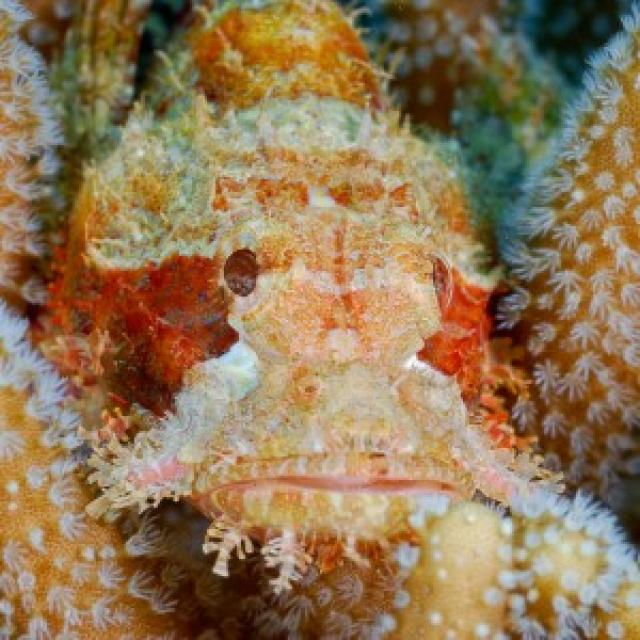Healthy: (1, 1, 639, 639), (1, 1, 204, 639), (502, 5, 639, 519), (381, 496, 639, 639)
